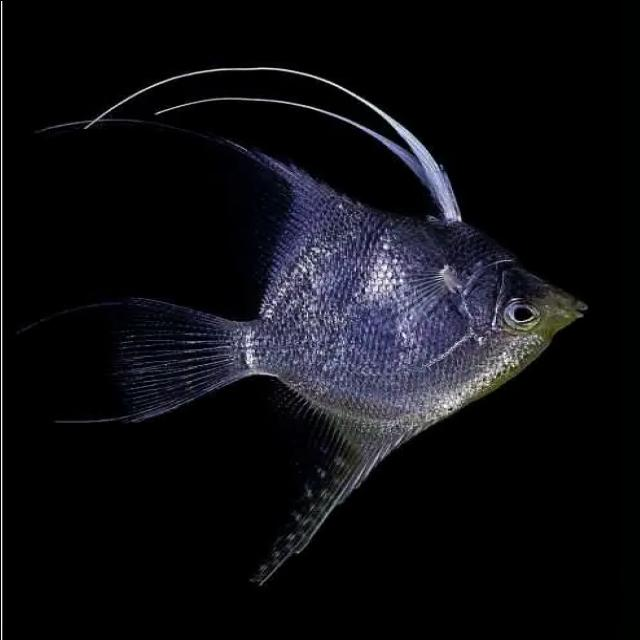AngelFish: (104, 61, 594, 583)
